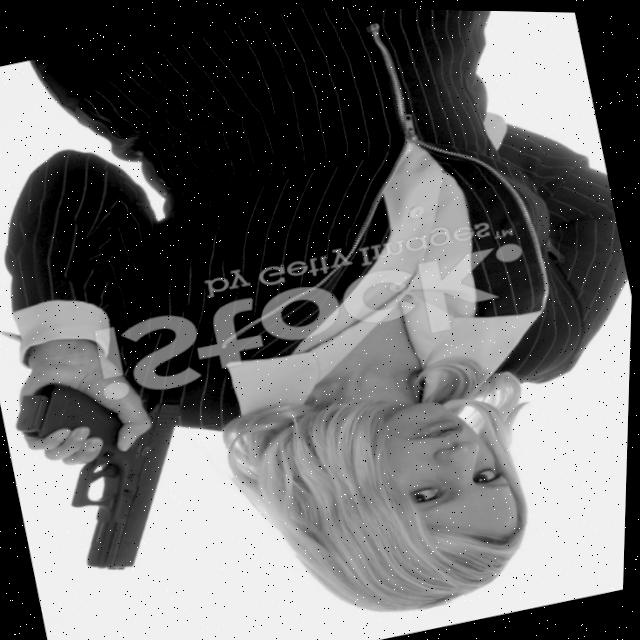pistol: (5, 351, 223, 590)
